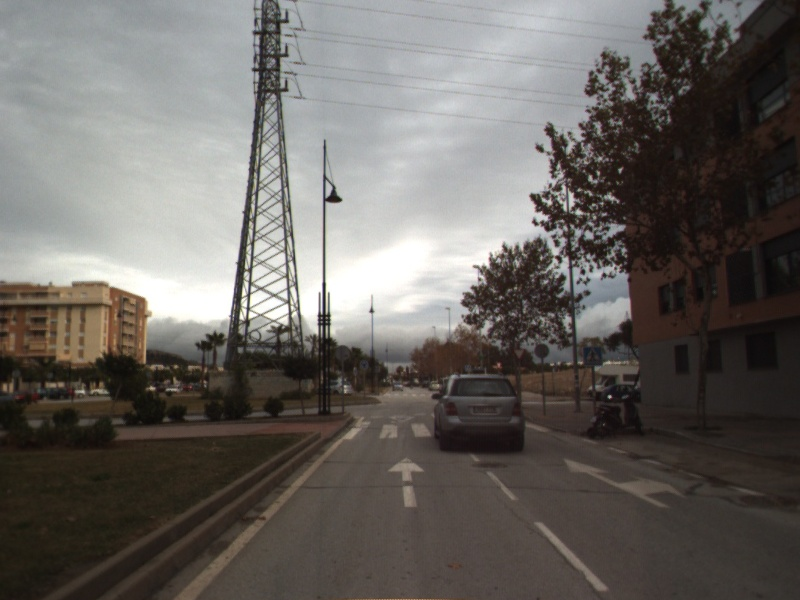STRAIGHT: (385, 455, 428, 509)
STRAIGHT_RIGHT: (562, 456, 690, 510)
